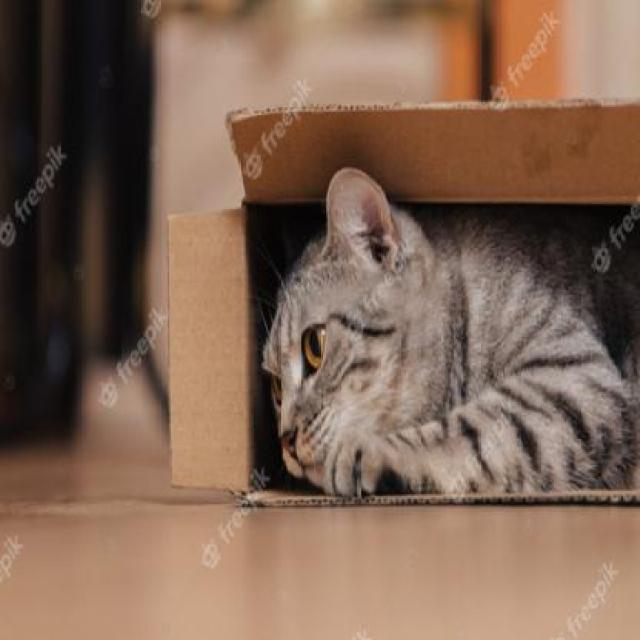box: (158, 90, 639, 555)
